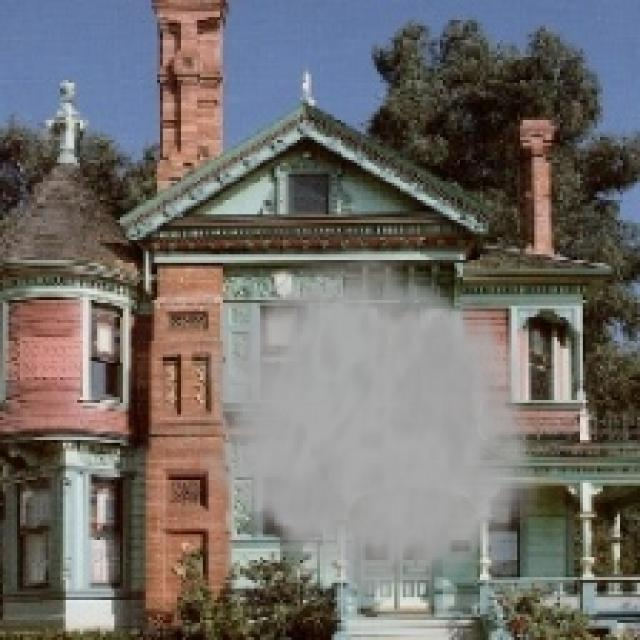Smoke: (200, 232, 554, 614)
